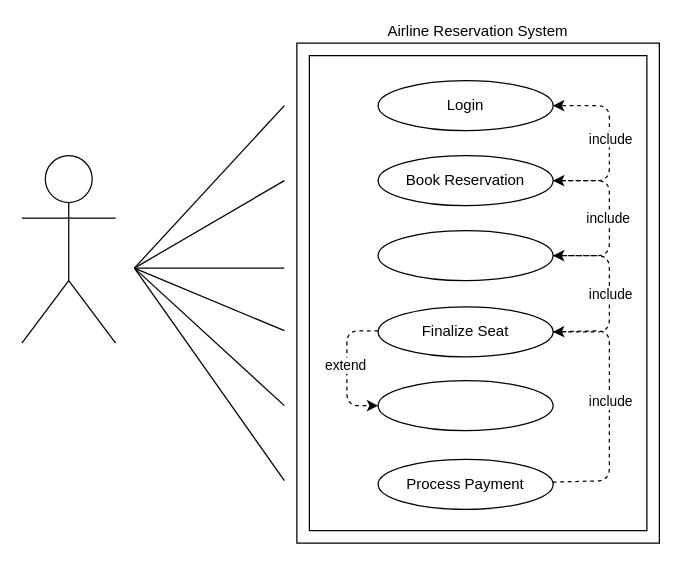
The diagram is 681 pixels wide and 565 high, and some of its shapes have lost their labels. Each missing label, with the centre of its shape:
"Check Reservation" goes at [465,255].
"Customer" goes at [68,248].
"Update Notication" goes at [465,405].
